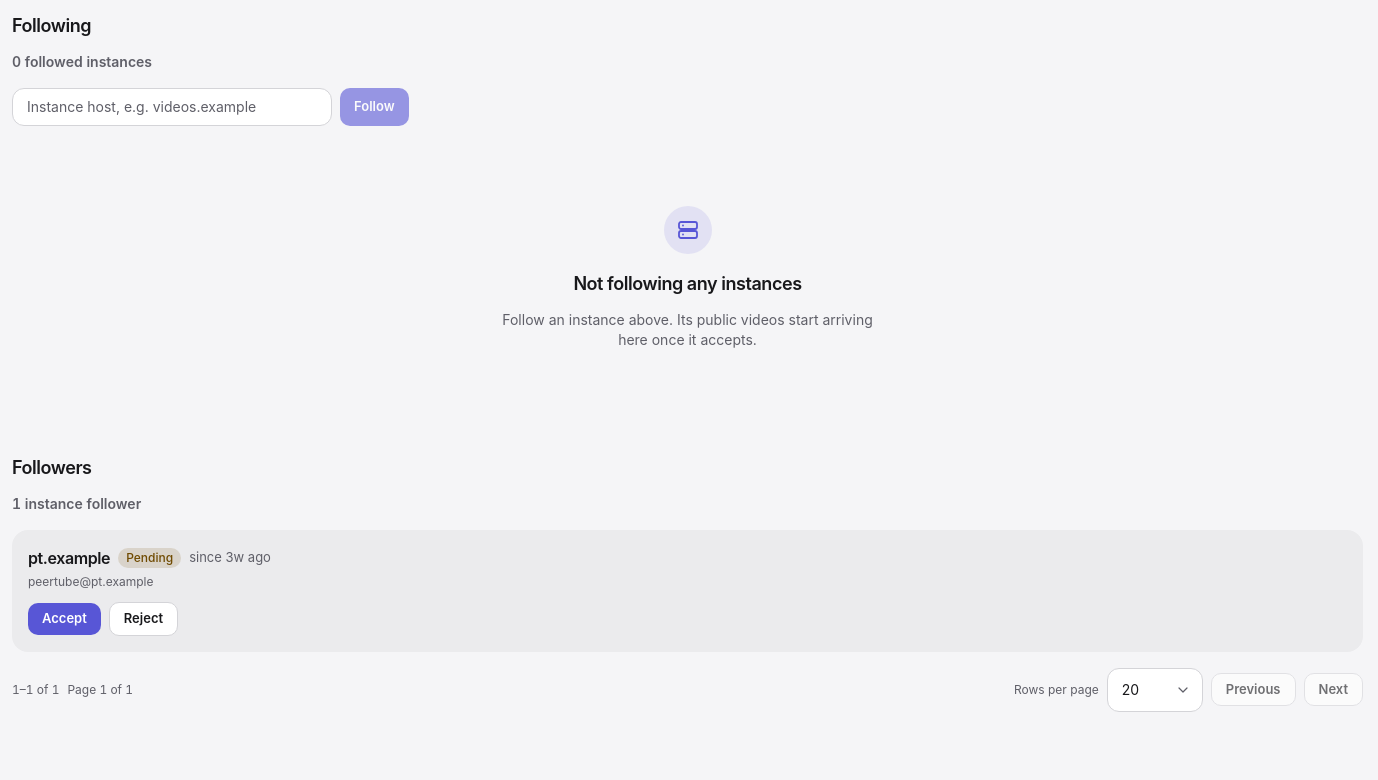
Test: AdminFederationInstancesView › accepts a pending follower, then offers reject and remove
The width and height of the screenshot is (1378, 780).
Click the button with aria-label "Accept pt.example" at x=64, y=619, box [28, 603, 101, 635]
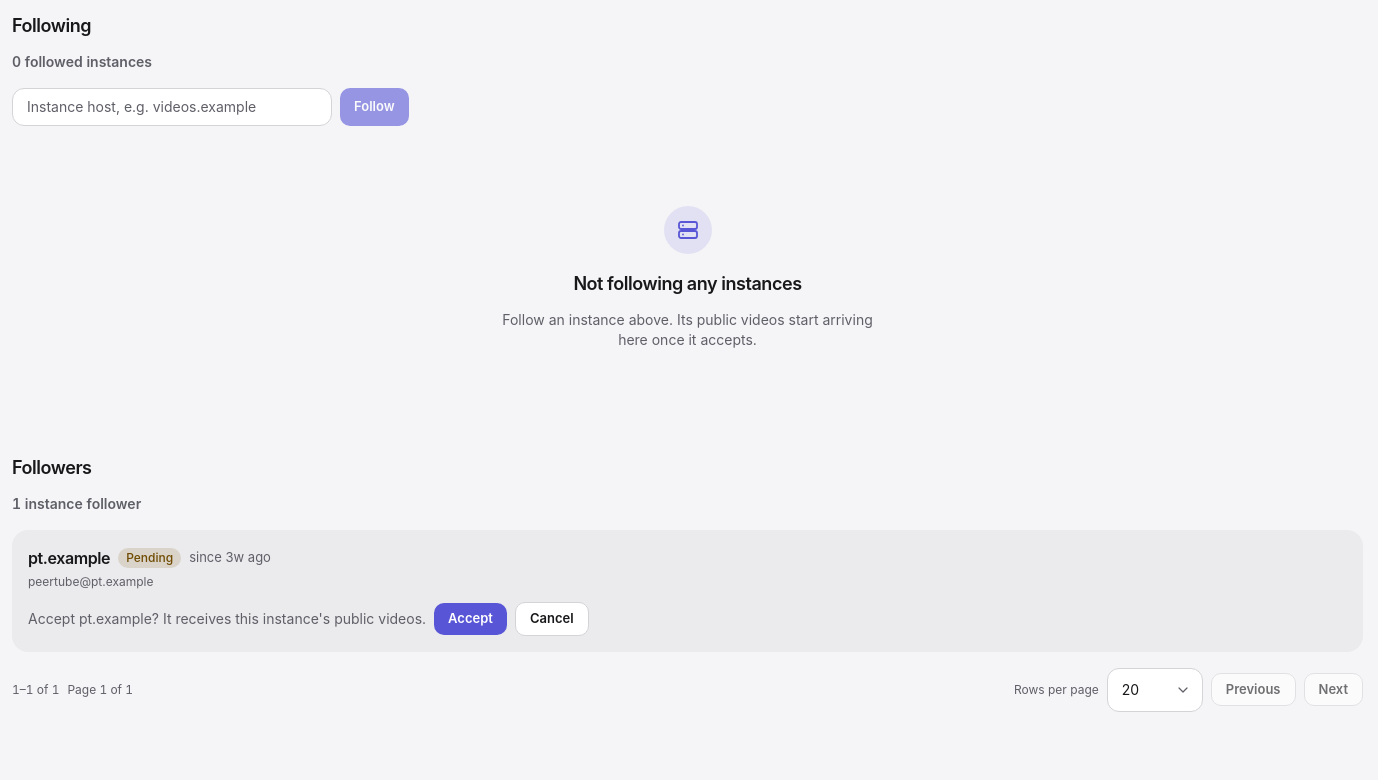
Click the button with aria-label "Confirm accept pt.example" at x=470, y=619, box [434, 603, 507, 635]
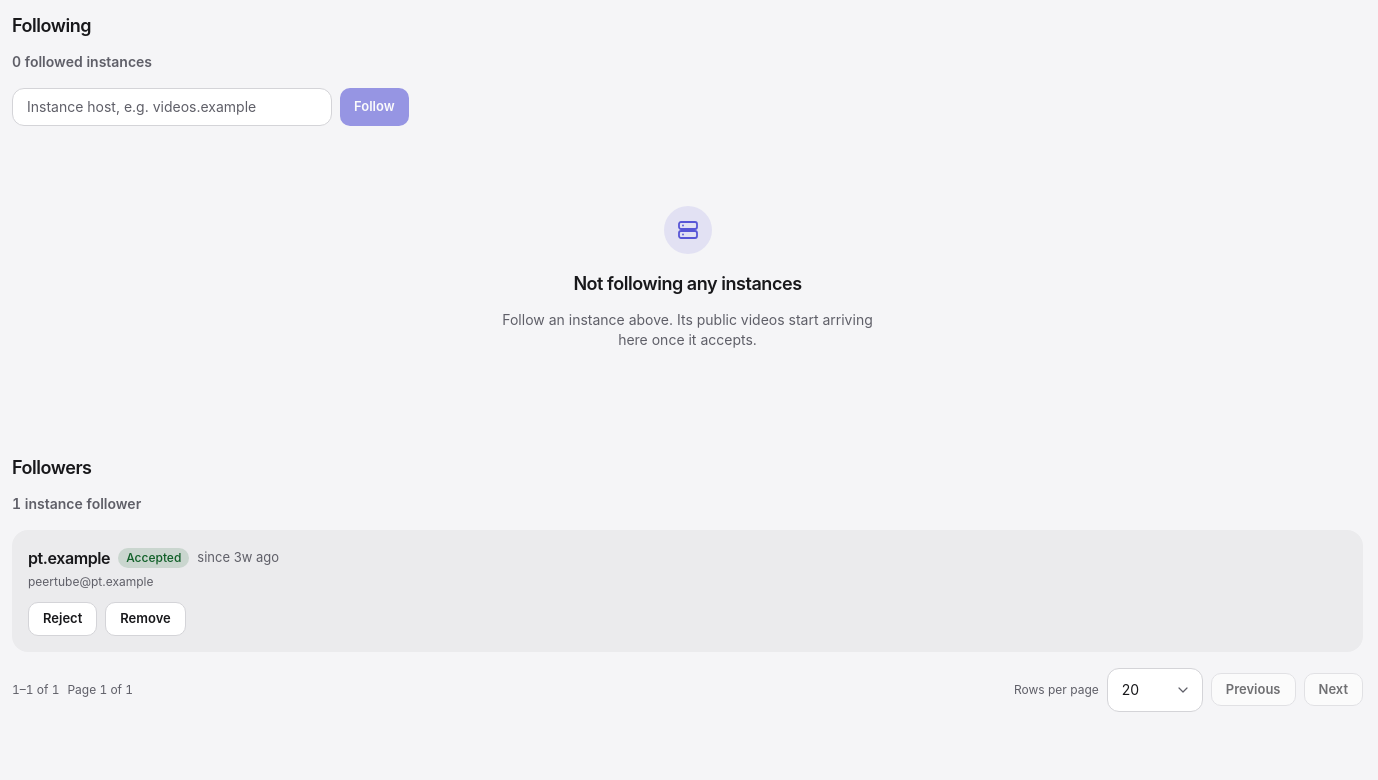
Check: the text "Accepted" is shown, box [118, 548, 189, 568]
Check: the button with aria-label "Reject pt.example" is shown, box [28, 602, 97, 636]
Check: the button with aria-label "Remove pt.example" is shown, box [105, 602, 186, 636]
